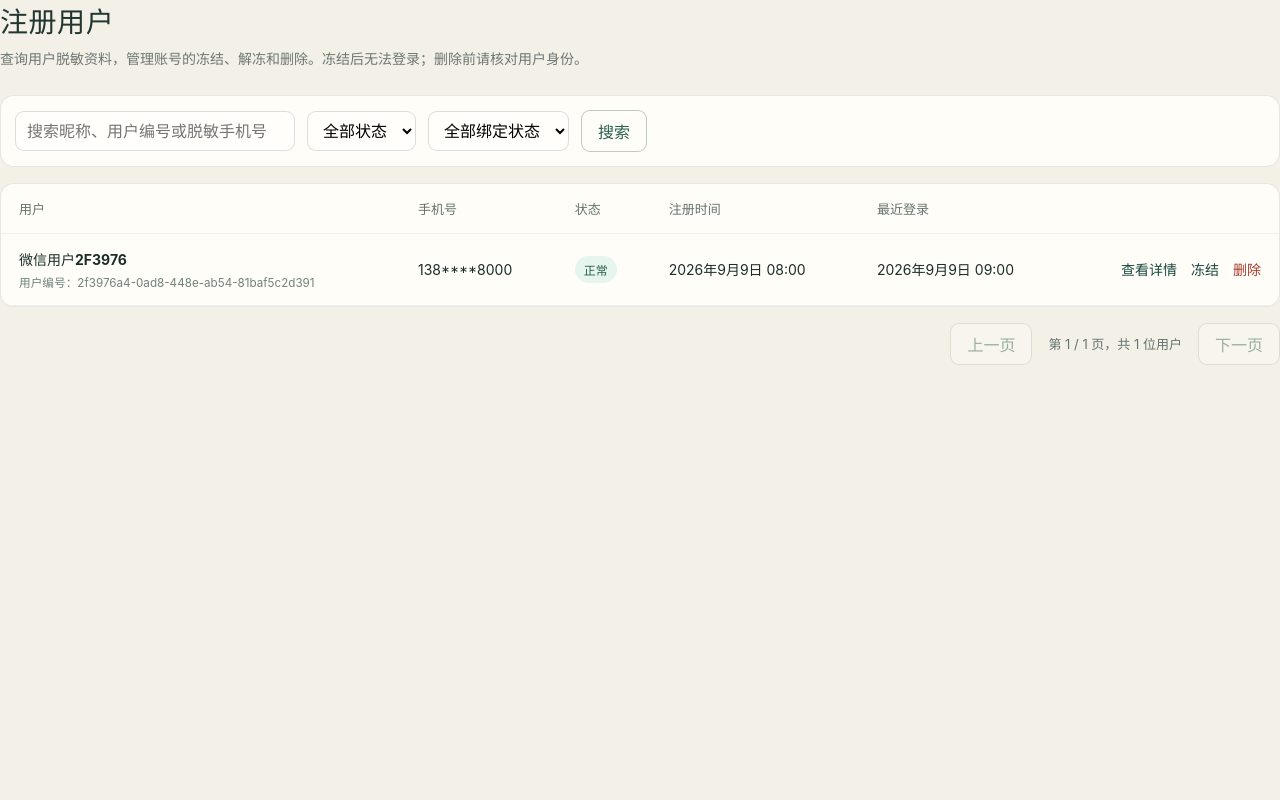
Test: UsersPage › lists masked fields and opens detail without exposing credentials
Check: the text "微信用户2F3976" is shown, box [19,251,127,268]
Check: the text "138****8000" is shown, box [400,233,557,305]
Click the button "查看详情" at [1149, 269], box [1121,252,1177,286]
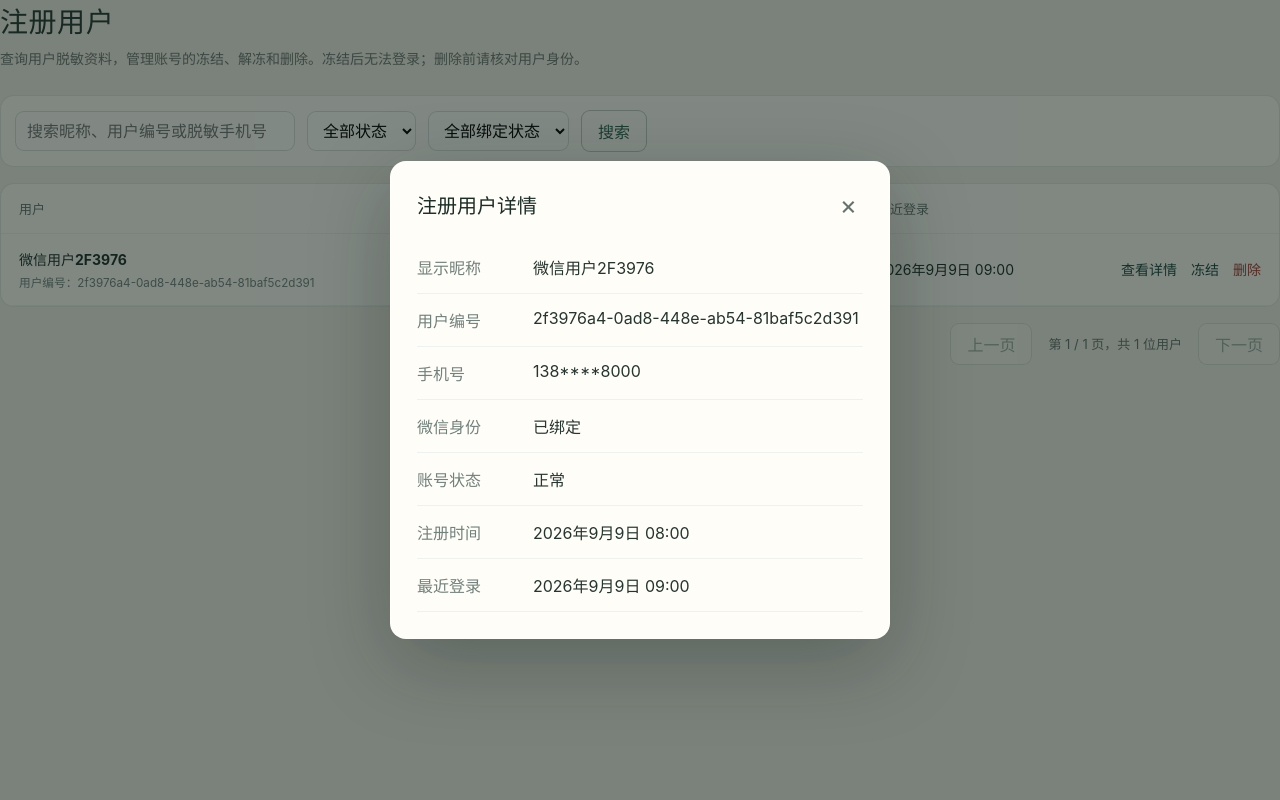
Check: the text "已绑定" is shown, box [533,417,581,437]
